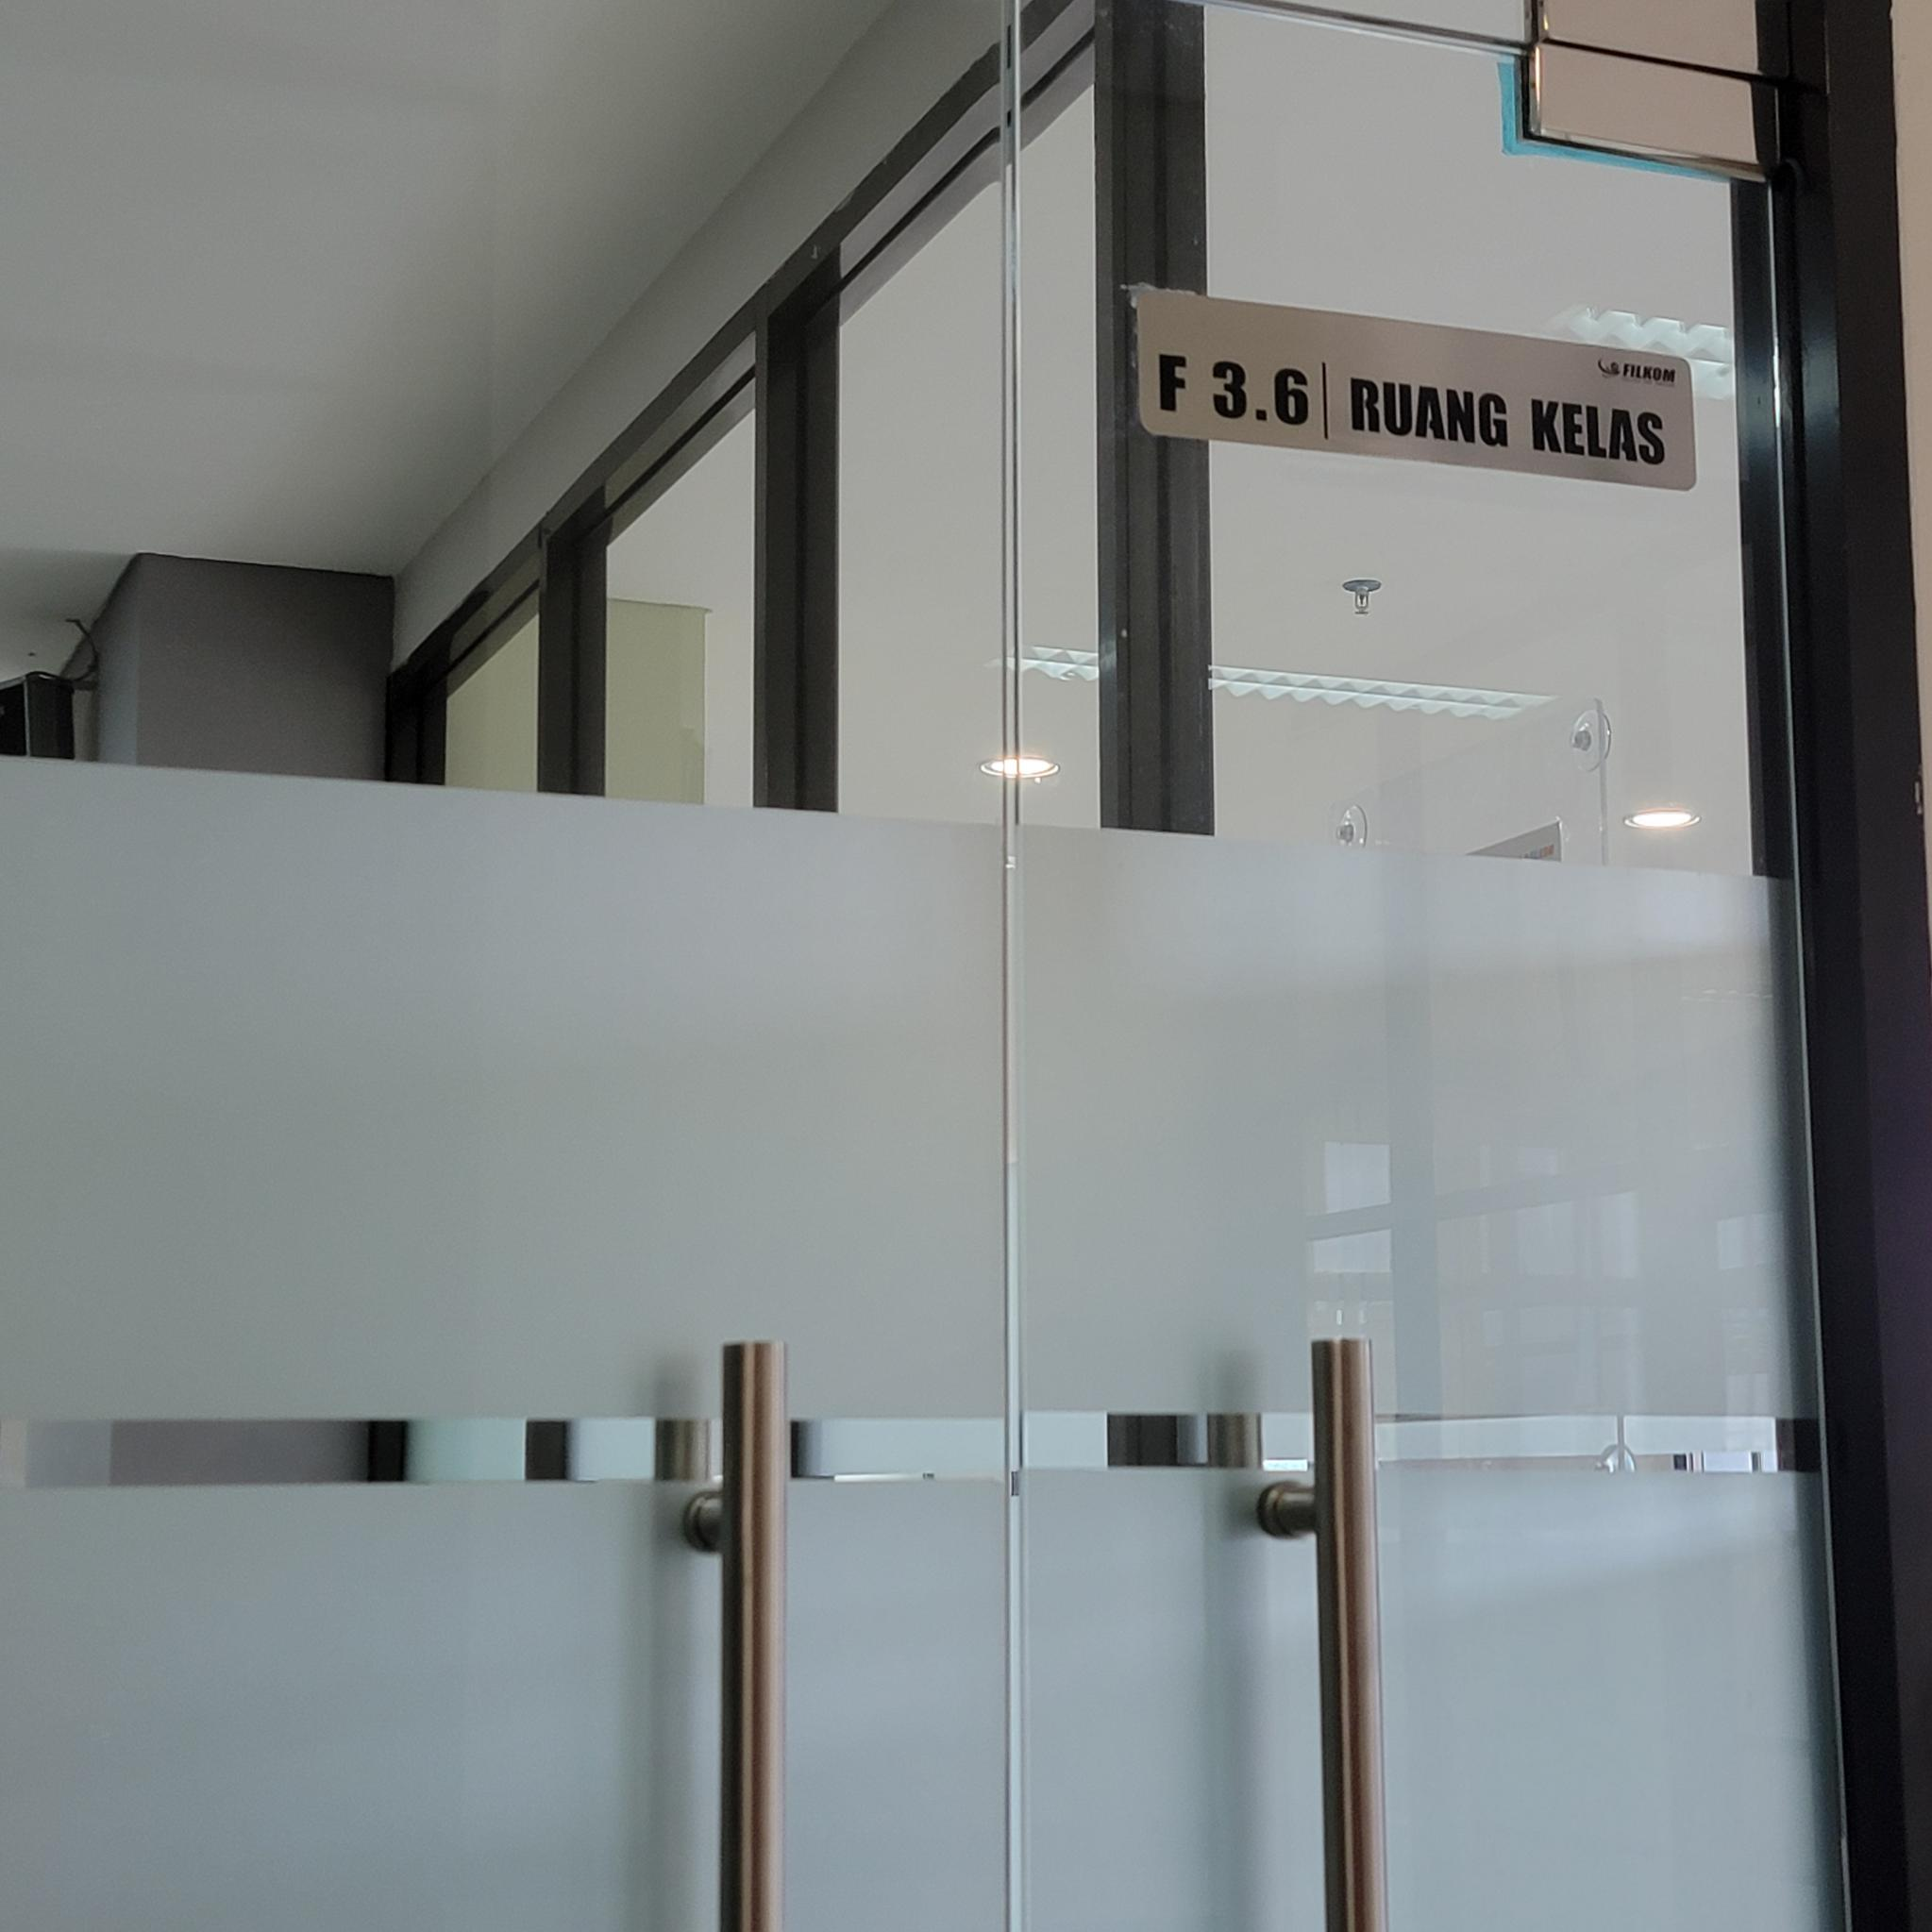plate: (1138, 290, 1695, 495)
